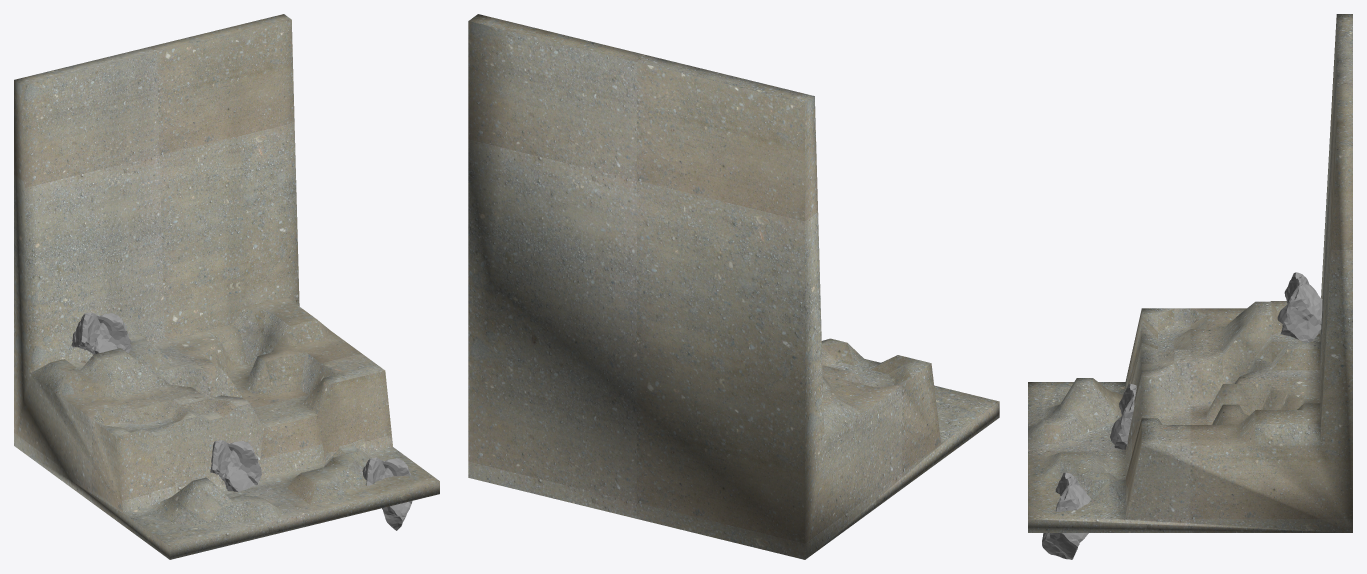
The model's file is right2.fbx.
The picture shows the model from 3 angles, left to right: view 1: azimuth 30°, elevation 25°; view 2: azimuth 150°, elevation 25°; view 3: azimuth 270°, elevation 25°; orthographic projection. The views are drawn at different scales.
Parts seen in each view (by area): view 1: Model, skp59B9_1, skp59B9_3, skp59B9_2; view 2: Model; view 3: Model, skp59B9_3, skp59B9_2, skp59B9_1.
Part boxes in pixels (bbox=[...]): Model: bbox=[14, 14, 439, 559]; skp59B9_1: bbox=[210, 440, 261, 491]; skp59B9_3: bbox=[71, 312, 131, 354]; skp59B9_2: bbox=[362, 457, 412, 530]; Model: bbox=[468, 14, 999, 559]; Model: bbox=[1028, 14, 1352, 532]; skp59B9_3: bbox=[1277, 272, 1322, 341]; skp59B9_2: bbox=[1042, 472, 1091, 559]; skp59B9_1: bbox=[1110, 384, 1136, 449].
Bounding box in the file's own units: 1000 × 1428 × 1000.
